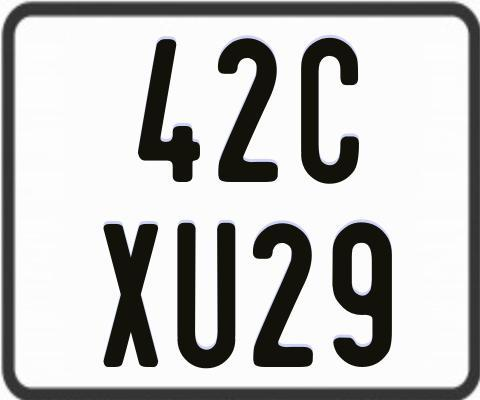2: (217, 36, 280, 182), (253, 220, 313, 366)
4: (138, 38, 206, 182)
9: (331, 222, 396, 371)
C: (300, 36, 359, 183)
U: (177, 221, 240, 367)
X: (104, 221, 160, 369)
